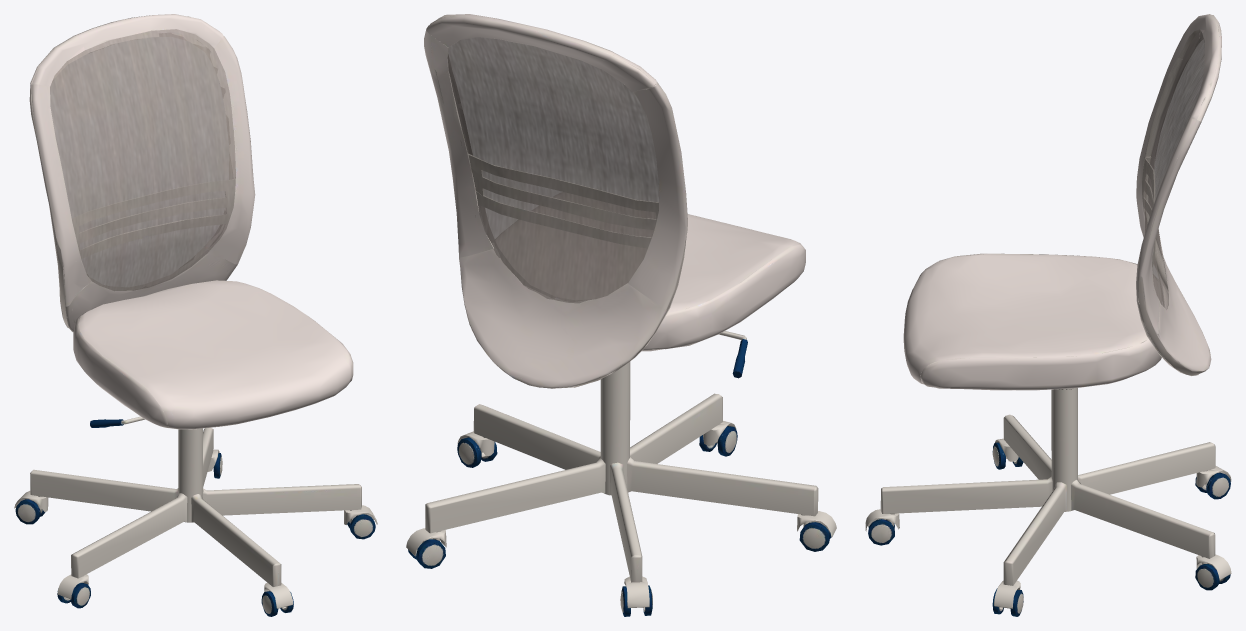
The model's file is flintan_krzeso_biurowe_70492202.glb.
3 views of the same model, side by side, from view 1: azimuth 30°, elevation 25°; view 2: azimuth 150°, elevation 25°; view 3: azimuth 270°, elevation 25° (orthographic). The views are drawn at different scales.
Visible parts, largest first — view 1: flintan_krzeso_biurowe_70492202; view 2: flintan_krzeso_biurowe_70492202; view 3: flintan_krzeso_biurowe_70492202.
Part boxes in pixels (left/top/right/bottom): flintan_krzeso_biurowe_70492202: left=14, top=14, right=377, bottom=616; flintan_krzeso_biurowe_70492202: left=406, top=14, right=836, bottom=616; flintan_krzeso_biurowe_70492202: left=865, top=14, right=1231, bottom=616.
Bounding box in the file's own units: 0.7122 × 1.02 × 0.6774.
Materials: 2 (2 with a texture image).
